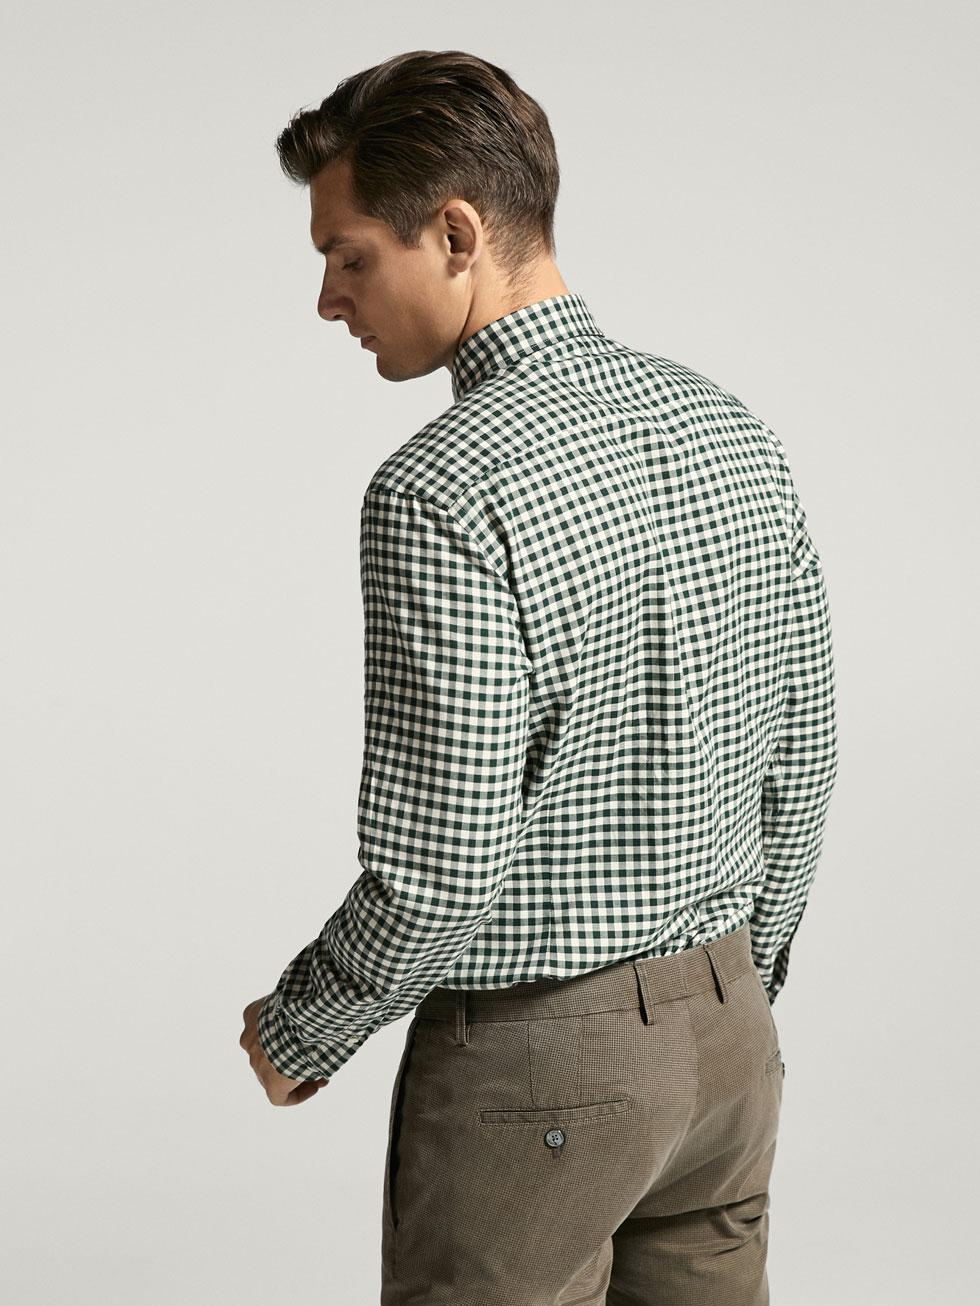teeshirt: (221, 291, 835, 1087)
